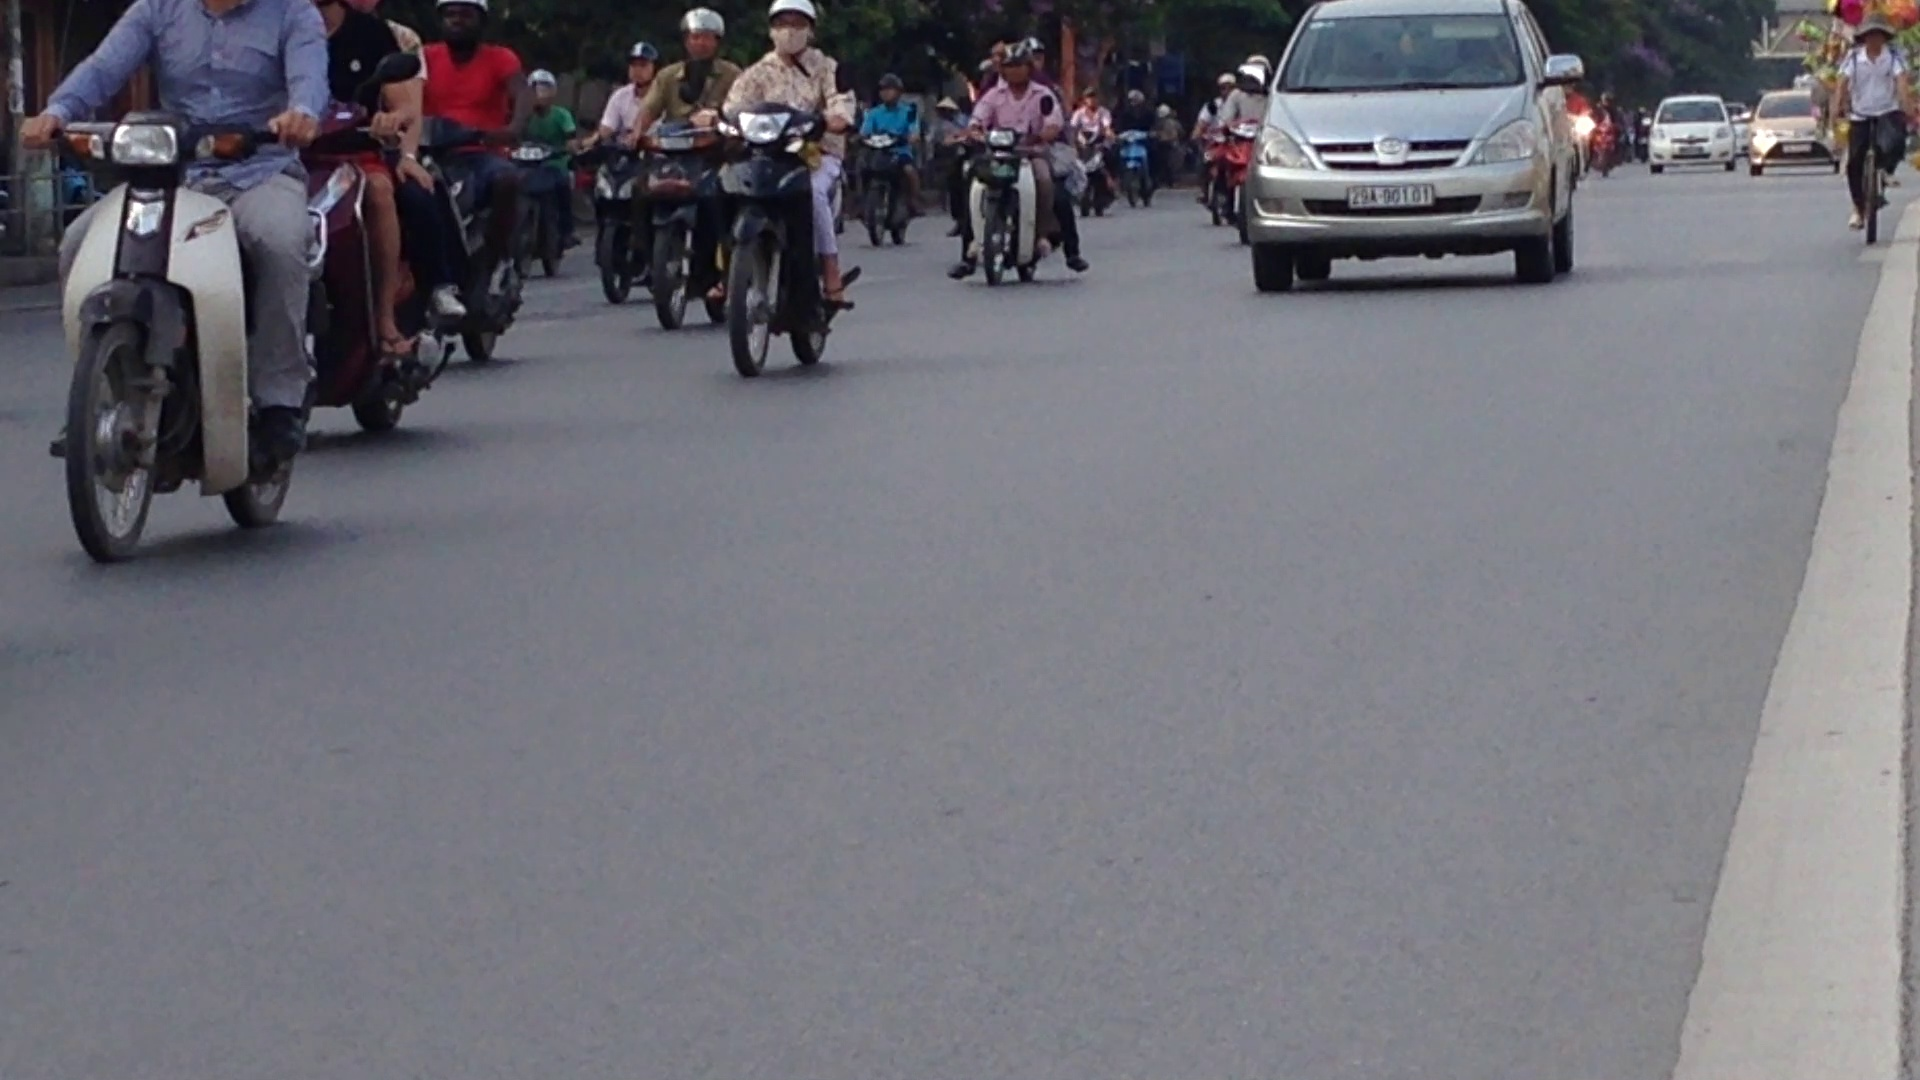person: (1342, 177, 1436, 210)
